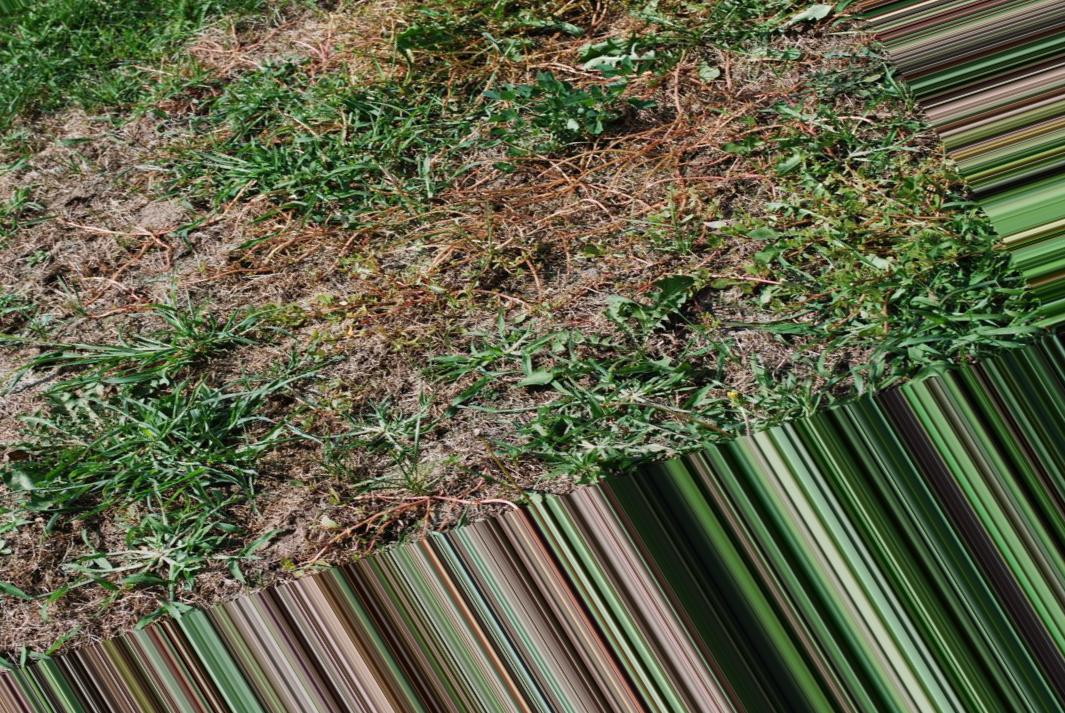patch: (294, 229, 515, 381), (233, 237, 586, 310), (564, 166, 738, 272), (61, 148, 165, 320)
